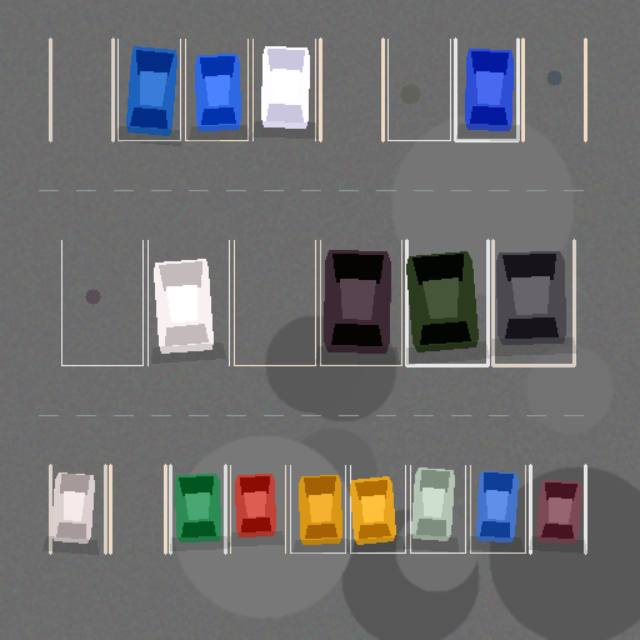space-empty: (61, 240, 143, 365), (234, 240, 315, 365), (522, 39, 585, 140), (50, 39, 112, 140), (320, 39, 382, 140), (388, 39, 450, 140), (110, 465, 165, 553)
space-occupied: (147, 240, 229, 365), (320, 240, 401, 365), (406, 240, 487, 365), (493, 240, 574, 365), (185, 39, 248, 140), (252, 39, 315, 140), (455, 39, 518, 140), (118, 39, 180, 140), (50, 465, 105, 553), (170, 465, 225, 553), (230, 465, 285, 553), (290, 465, 345, 553), (350, 465, 405, 553), (410, 465, 465, 553), (470, 465, 525, 553), (530, 465, 585, 553)
